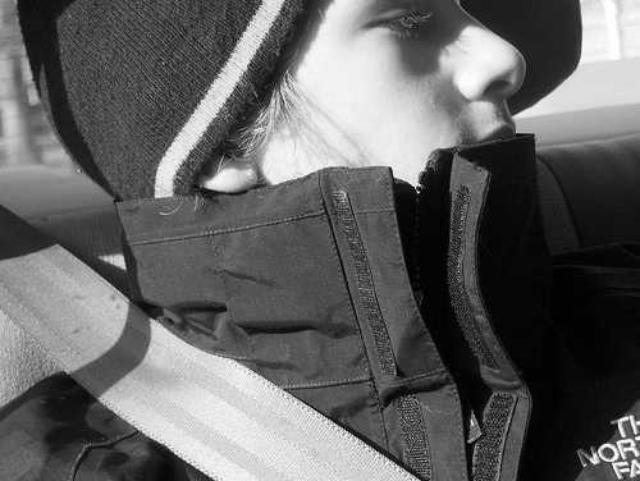Seatbelt: (0, 196, 432, 481)
